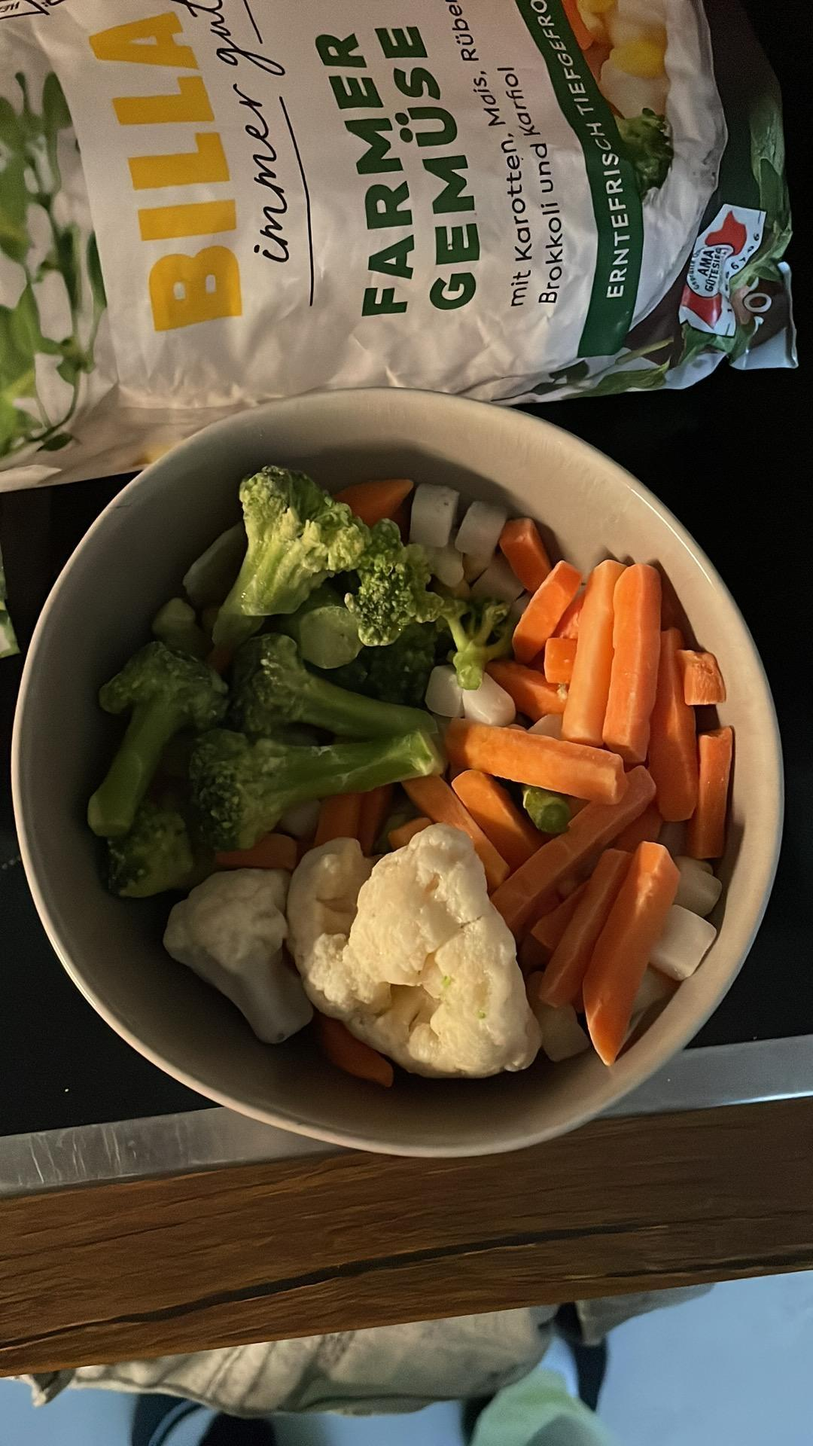broccoli: (188, 721, 438, 859), (80, 638, 232, 830), (213, 461, 369, 642), (218, 625, 443, 743), (70, 795, 201, 899), (349, 533, 432, 638), (432, 594, 521, 689)
carrot: (499, 765, 662, 917), (576, 848, 681, 1059), (449, 711, 634, 804), (413, 772, 538, 876), (612, 560, 661, 759), (571, 559, 621, 745), (657, 624, 698, 825), (686, 721, 739, 858), (514, 568, 581, 663), (316, 1024, 396, 1089), (315, 790, 397, 841), (502, 516, 550, 588), (349, 473, 414, 520), (684, 640, 719, 705)
cauliflower: (288, 831, 548, 1078), (162, 865, 318, 1042)
